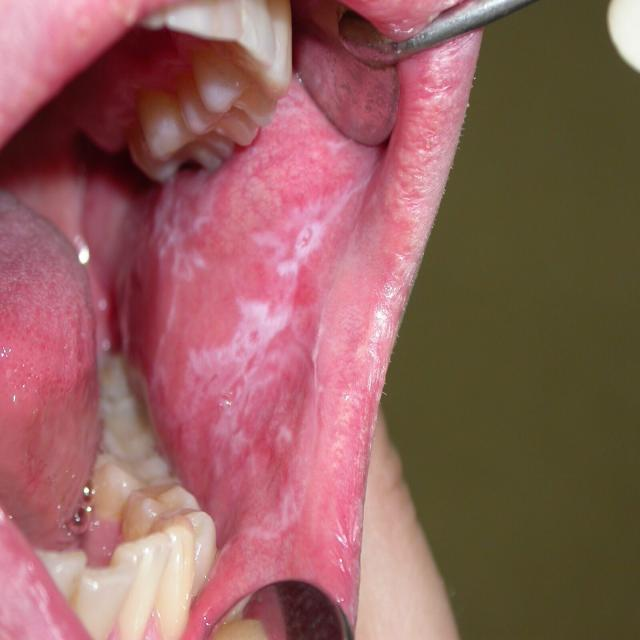leukoplakia-detection: (121, 72, 388, 556)
processing_area: (0, 53, 450, 639)
